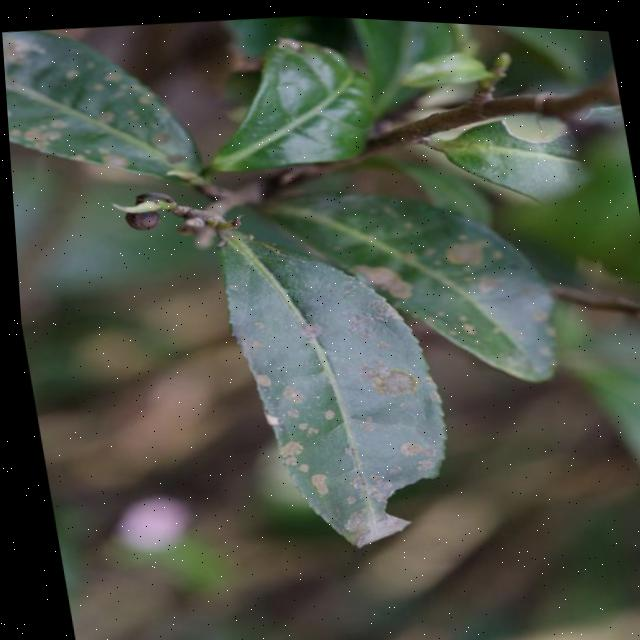Tea algae leaf spot: (254, 294, 446, 554)
